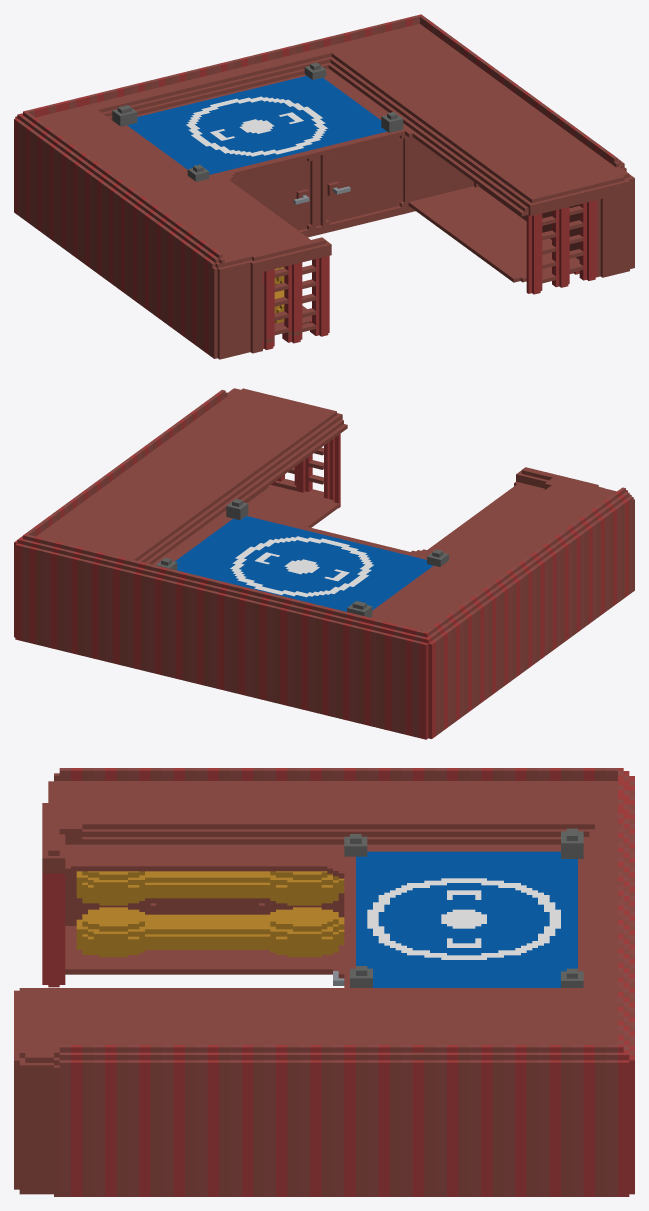
File: base_upgrade_station_v2.obj
3 renders of one model, top to bottom at view 1: azimuth 30°, elevation 25°; view 2: azimuth 150°, elevation 25°; view 3: azimuth 270°, elevation 25°, orthographic. The views are drawn at different scales.
Size of the model in its own units: 12 by 2.8 by 10.9.
Materials: 1 (1 with a texture image).
